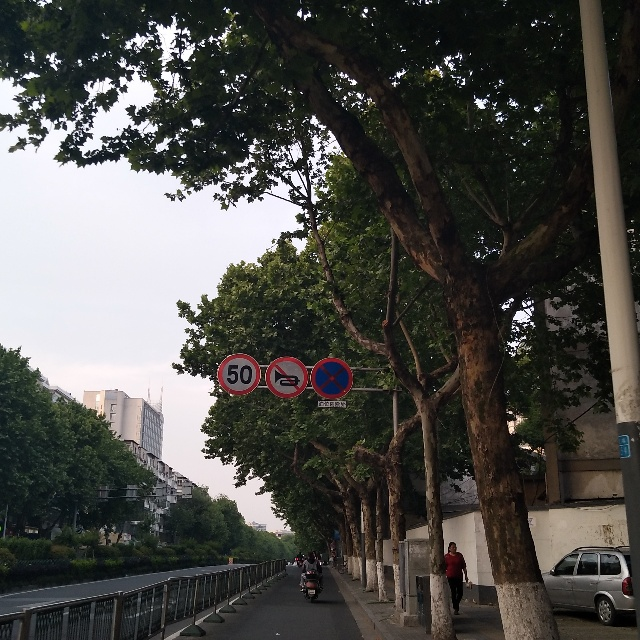nohonk: (263, 355, 307, 404)
stop: (309, 354, 356, 407)
